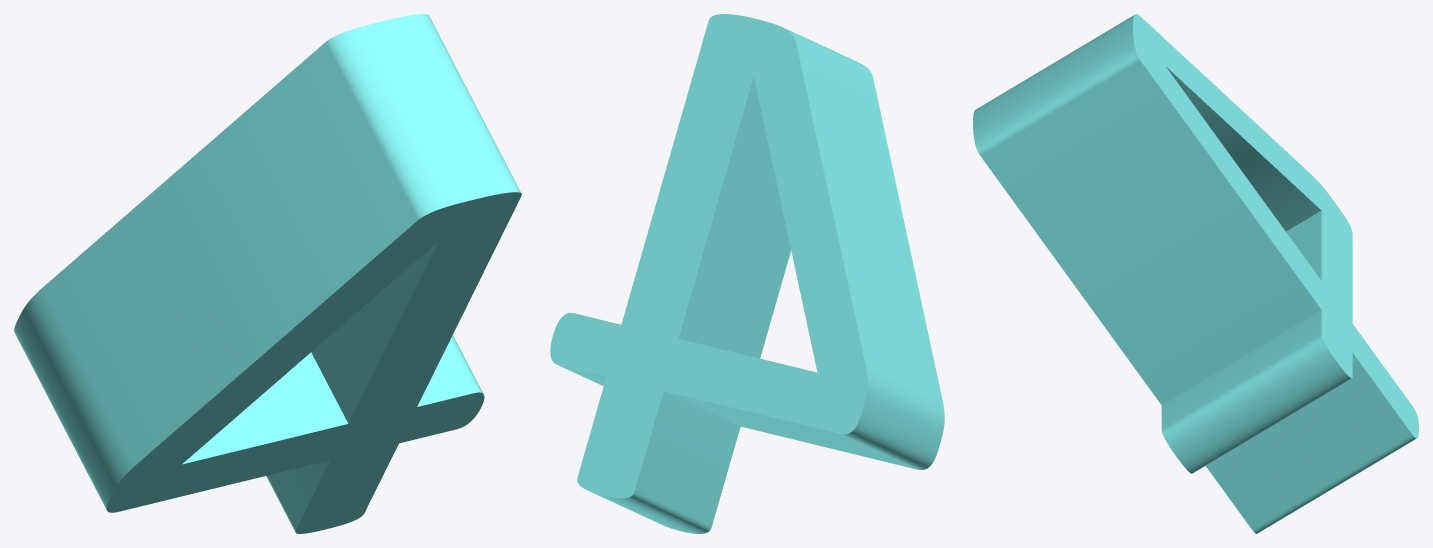
3 views of the same model, side by side, from view 1: azimuth 30°, elevation 25°; view 2: azimuth 150°, elevation 25°; view 3: azimuth 270°, elevation 25° (orthographic). The views are drawn at different scales.
Visible parts, largest first — view 1: node_id124; view 2: node_id124; view 3: node_id124.
Part boxes in pixels (left/top/right/bottom): node_id124: left=14, top=14, right=521, bottom=533; node_id124: left=550, top=14, right=944, bottom=533; node_id124: left=973, top=14, right=1418, bottom=533.
Size of the model in its own units: 0.029 by 0.0422 by 0.0349.
1 material, 1 textured.
